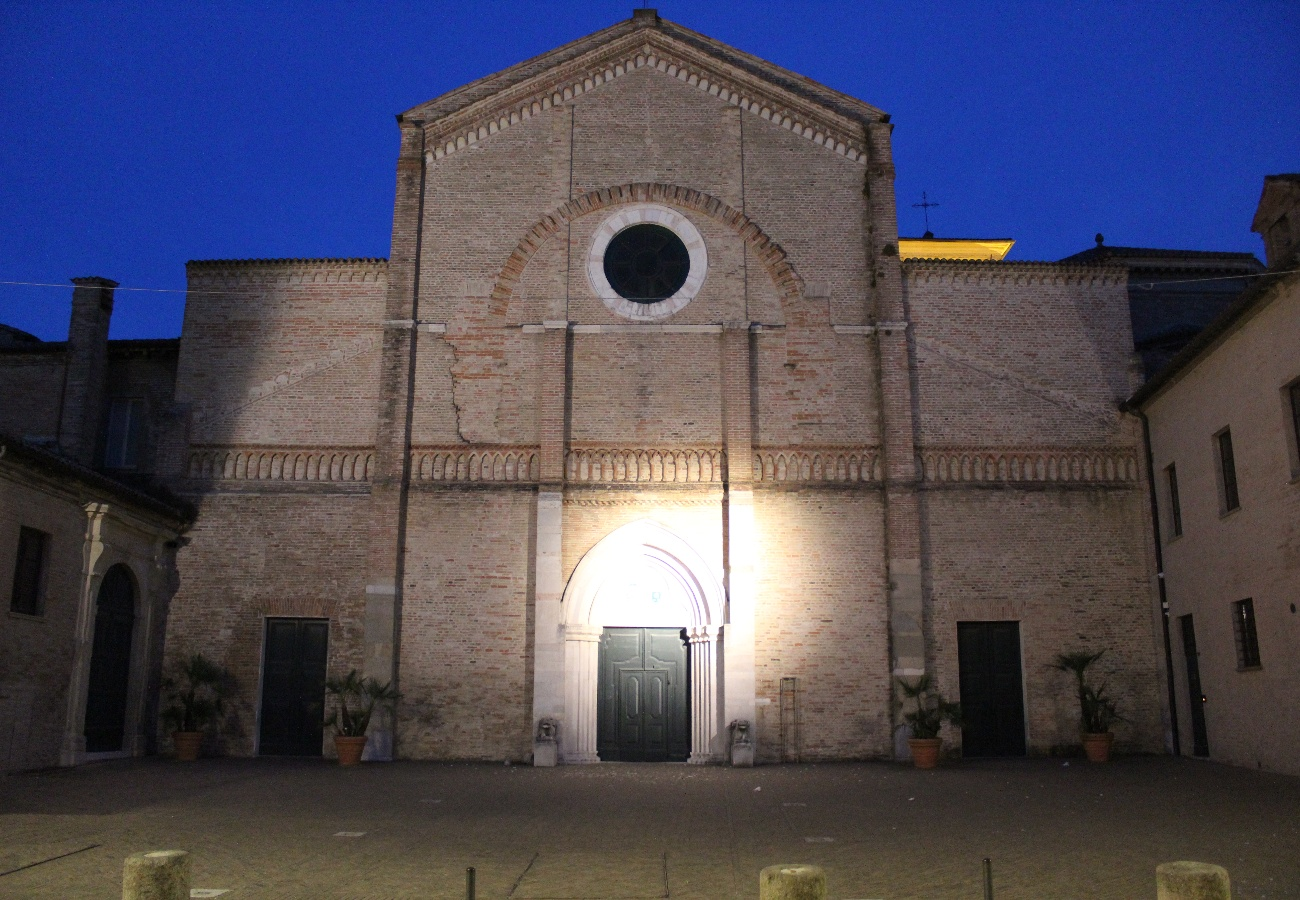Cattedrale Santa Maria Assunta: (172, 10, 1150, 770)
